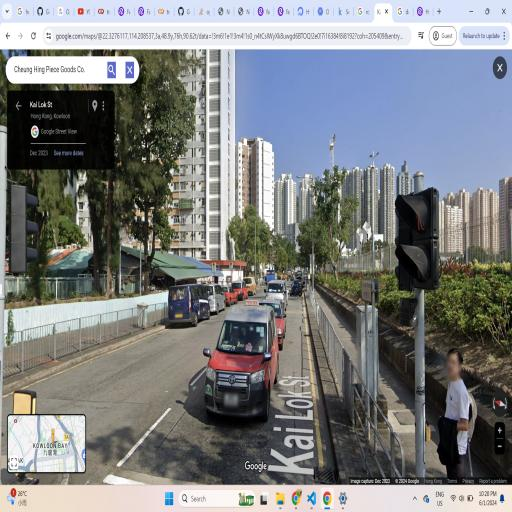Roads: (16, 271, 512, 476)
Trees: (103, 50, 203, 298), (301, 154, 361, 312)
